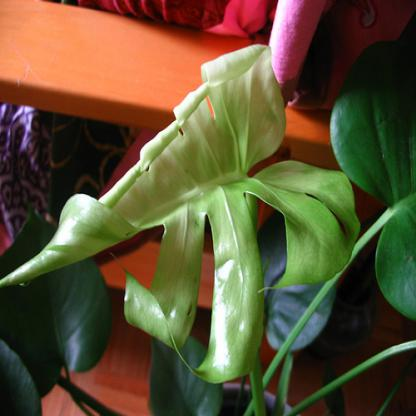chair: (0, 0, 415, 370)
pottedplant: (0, 40, 415, 414)
